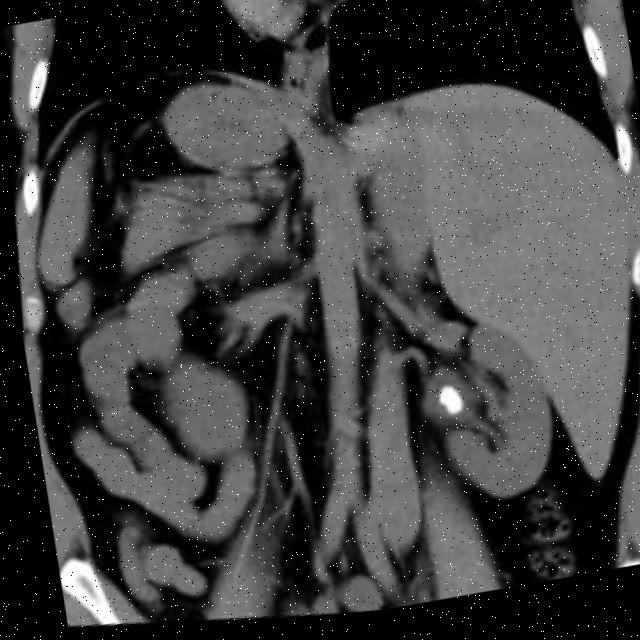Tas_Var: (422, 386, 462, 427)
